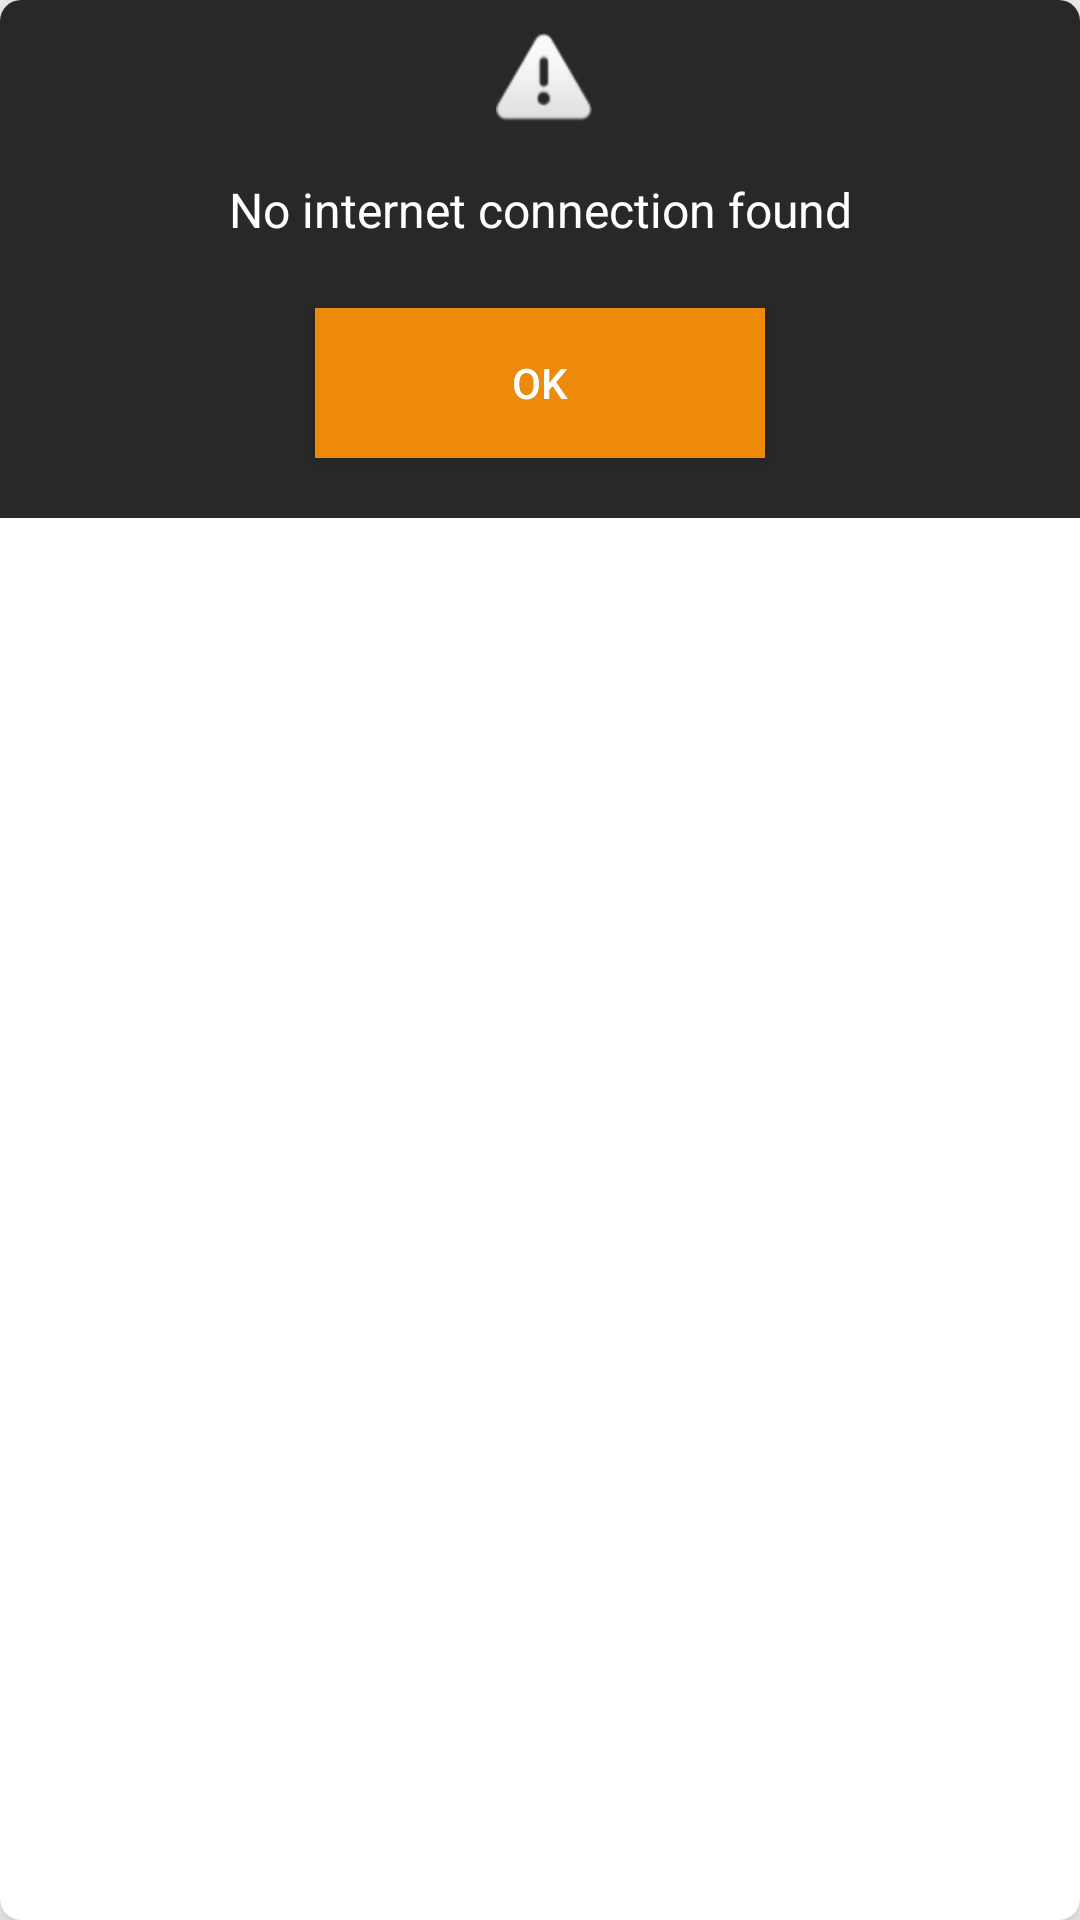

Icons on this 1080px x 1920px Android screen, each with the point to tap as [x,y]:
alert: [544,76]
